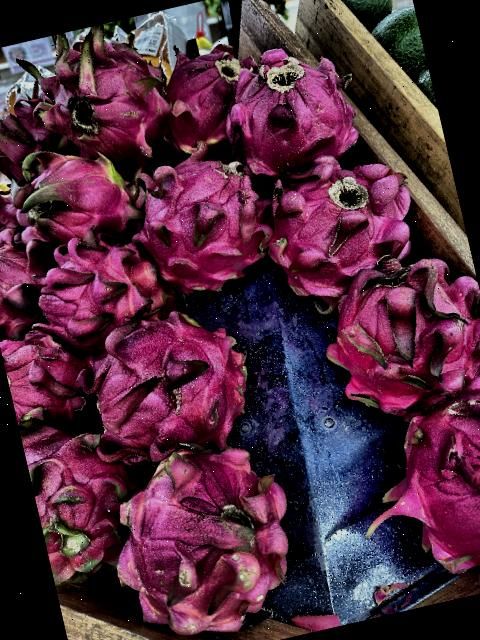buah-naga-matang: (99, 432, 314, 640), (66, 291, 266, 476), (308, 242, 480, 418), (248, 134, 423, 296), (123, 141, 287, 304), (213, 28, 372, 194), (17, 400, 158, 586), (13, 28, 176, 170), (378, 382, 480, 603), (22, 228, 178, 354), (0, 136, 149, 266), (145, 27, 264, 163), (0, 310, 111, 435), (0, 85, 74, 173), (0, 225, 60, 331)
